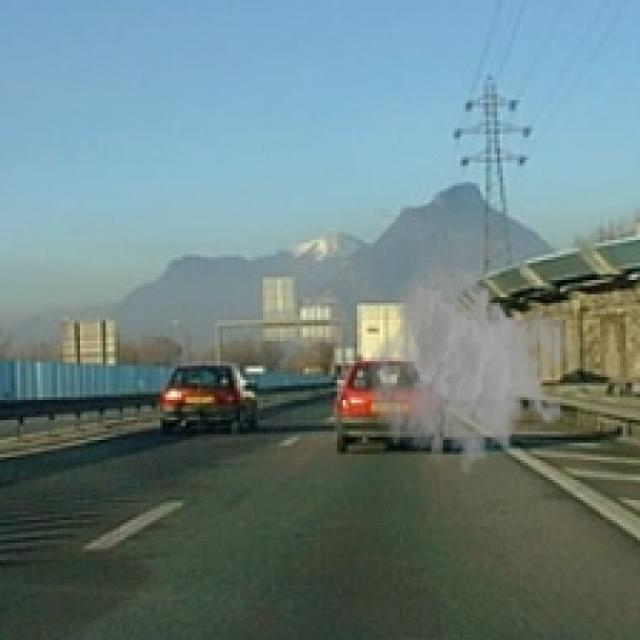smoke: (366, 254, 571, 486)
